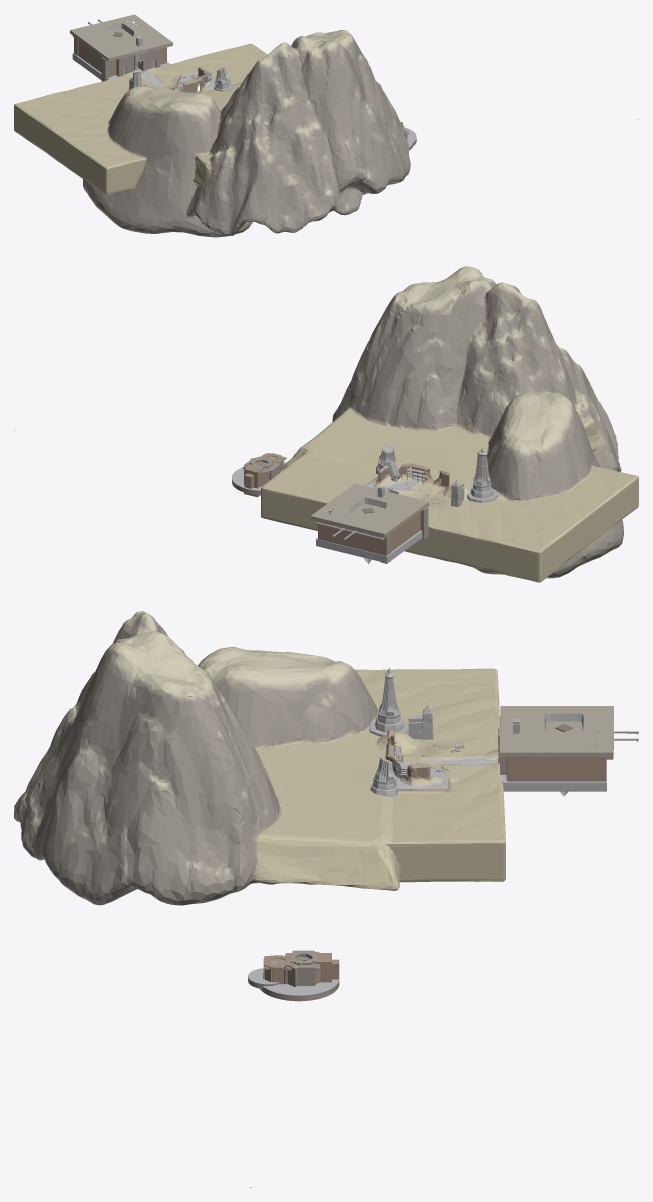
Rendered from BstBaked.glb.
3 renders of one model, top to bottom at view 1: azimuth 30°, elevation 25°; view 2: azimuth 150°, elevation 25°; view 3: azimuth 270°, elevation 25°, orthographic. The views are drawn at different scales.
Parts seen in each view (by area): view 1: BstBaked_terrain, BstBaked_DuskStatue_02; view 2: BstBaked_terrain, BstBaked_DuskStatue_01; view 3: BstBaked_terrain, BstBaked_DuskStatue_01.
Boxes of the visible parts, x1,y1,x2,y2 form: BstBaked_terrain: (14,14,416,237); BstBaked_DuskStatue_02: (214,67,233,91); BstBaked_terrain: (232,266,638,582); BstBaked_DuskStatue_01: (467,448,498,502); BstBaked_terrain: (14,611,613,1001); BstBaked_DuskStatue_01: (369,668,408,736).
Size of the model in its own units: 658 by 230 by 445.
